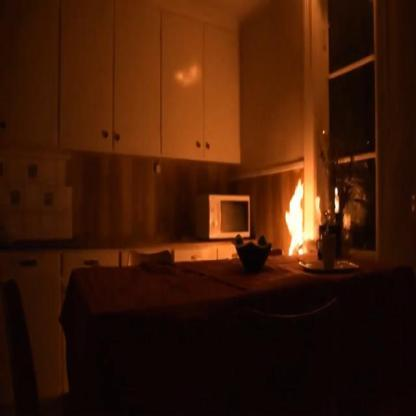Fire: (281, 174, 309, 261), (334, 186, 338, 196)
